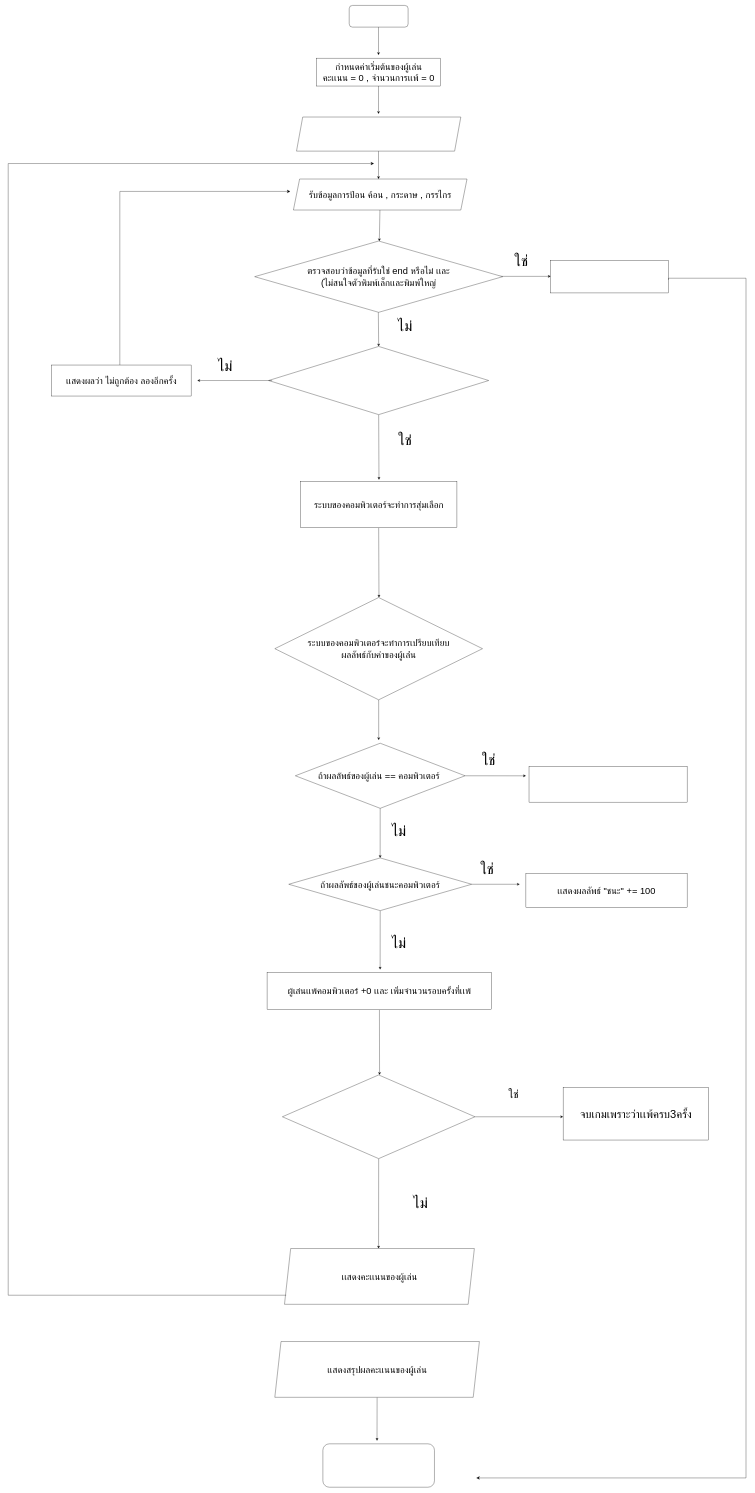
The diagram is 755 pixels wide and 1493 high, and some of its shapes have lost their labels. Each missing label, with the box of its shape:
END: (323, 1444, 434, 1487)
Start: (349, 5, 408, 27)
ตรวจสอบความถูกต้องของข้อมูลว่าใช่ (ค้อน , กระดาษ , กรรไกร)ไหม: (268, 346, 489, 415)
ตรวจสอบว่า เเพ้ครบ3ครั้งหรือมากกว่า: (282, 1075, 475, 1159)
ทักทายผู้เล่น รับชื่อ เเละ เเสดงกติกาการเล่น: (296, 117, 461, 151)
เเสดงผลลัพธ์ "เสมอ" += 50: (529, 766, 687, 802)
เเสดงผลว่าจบเกม: (550, 260, 669, 293)
